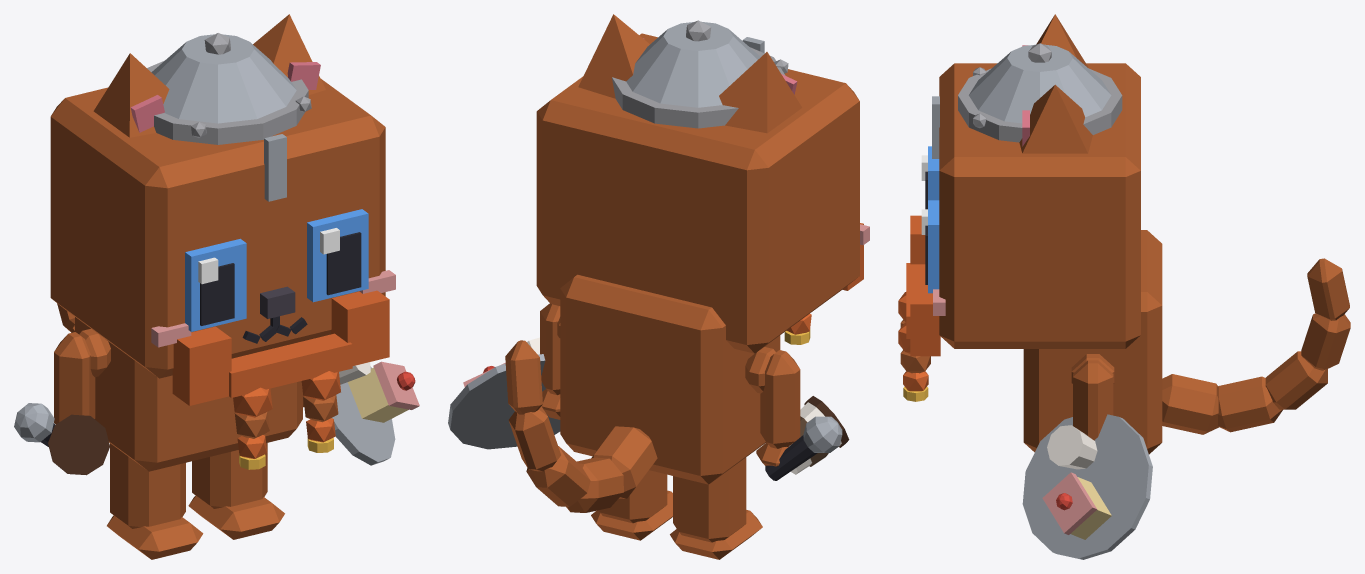
File: CatCafe_Cat_Dwarf_Work.fbx
3 views of the same model, side by side, from view 1: azimuth 30°, elevation 25°; view 2: azimuth 150°, elevation 25°; view 3: azimuth 270°, elevation 25° (orthographic). The views are drawn at different scales.
Parts seen in each view (by area): view 1: CatCafe_Cat_Dwarf_Work_Head, CatCafe_Cat_Dwarf_Work_Prop, CatCafe_Cat_Dwarf_Work_Body, CatCafe_Cat_Dwarf_Work_LegB2, CatCafe_Cat_Dwarf_Work_Held_Waiter, CatCafe_Cat_Dwarf_Work_LegB1, CatCafe_Cat_Dwarf_Work_Eye1, CatCafe_Cat_Dwarf_Work_Eye2, CatCafe_Cat_Dwarf_Work_EarR, CatCafe_Cat_Dwarf_Work_LegF2, CatCafe_Cat_Dwarf_Work_Held_Barista, CatCafe_Cat_Dwarf_Work_EarL (+1 smaller); view 2: CatCafe_Cat_Dwarf_Work_Head, CatCafe_Cat_Dwarf_Work_Body, CatCafe_Cat_Dwarf_Work_Prop, CatCafe_Cat_Dwarf_Work_Tail, CatCafe_Cat_Dwarf_Work_LegB2, CatCafe_Cat_Dwarf_Work_Held_Waiter, CatCafe_Cat_Dwarf_Work_EarR, CatCafe_Cat_Dwarf_Work_LegF2, CatCafe_Cat_Dwarf_Work_LegB1, CatCafe_Cat_Dwarf_Work_EarL, CatCafe_Cat_Dwarf_Work_Held_Entertainer, CatCafe_Cat_Dwarf_Work_LegF1 (+1 smaller); view 3: CatCafe_Cat_Dwarf_Work_Head, CatCafe_Cat_Dwarf_Work_Prop, CatCafe_Cat_Dwarf_Work_Held_Waiter, CatCafe_Cat_Dwarf_Work_Tail, CatCafe_Cat_Dwarf_Work_Body, CatCafe_Cat_Dwarf_Work_EarL, CatCafe_Cat_Dwarf_Work_LegF1, CatCafe_Cat_Dwarf_Work_Eye1, CatCafe_Cat_Dwarf_Work_EarR, CatCafe_Cat_Dwarf_Work_Eye2.
Boxes of the visible parts, bbox=[...] form: CatCafe_Cat_Dwarf_Work_Head: bbox=[50, 79, 395, 378]; CatCafe_Cat_Dwarf_Work_Prop: bbox=[147, 33, 389, 469]; CatCafe_Cat_Dwarf_Work_Body: bbox=[75, 317, 302, 471]; CatCafe_Cat_Dwarf_Work_LegB2: bbox=[107, 443, 203, 559]; CatCafe_Cat_Dwarf_Work_Held_Waiter: bbox=[332, 361, 419, 465]; CatCafe_Cat_Dwarf_Work_LegB1: bbox=[188, 443, 284, 539]; CatCafe_Cat_Dwarf_Work_Eye1: bbox=[307, 209, 368, 302]; CatCafe_Cat_Dwarf_Work_Eye2: bbox=[185, 238, 246, 331]; CatCafe_Cat_Dwarf_Work_EarR: bbox=[93, 53, 169, 137]; CatCafe_Cat_Dwarf_Work_LegF2: bbox=[54, 332, 95, 423]; CatCafe_Cat_Dwarf_Work_Held_Barista: bbox=[48, 414, 109, 475]; CatCafe_Cat_Dwarf_Work_EarL: bbox=[253, 14, 325, 94]; CatCafe_Cat_Dwarf_Work_Head: bbox=[536, 33, 869, 353]; CatCafe_Cat_Dwarf_Work_Body: bbox=[557, 274, 780, 484]; CatCafe_Cat_Dwarf_Work_Prop: bbox=[612, 20, 863, 344]; CatCafe_Cat_Dwarf_Work_Tail: bbox=[505, 340, 657, 512]; CatCafe_Cat_Dwarf_Work_LegB2: bbox=[670, 457, 762, 559]; CatCafe_Cat_Dwarf_Work_Held_Waiter: bbox=[448, 337, 560, 449]; CatCafe_Cat_Dwarf_Work_EarR: bbox=[719, 52, 802, 133]; CatCafe_Cat_Dwarf_Work_LegF2: bbox=[756, 350, 800, 466]; CatCafe_Cat_Dwarf_Work_LegB1: bbox=[591, 470, 672, 540]; CatCafe_Cat_Dwarf_Work_EarL: bbox=[578, 14, 649, 98]; CatCafe_Cat_Dwarf_Work_Held_Entertainer: bbox=[765, 416, 842, 480]; CatCafe_Cat_Dwarf_Work_LegF1: bbox=[540, 303, 560, 419]; CatCafe_Cat_Dwarf_Work_Head: bbox=[933, 63, 1140, 348]; CatCafe_Cat_Dwarf_Work_Prop: bbox=[898, 43, 1122, 401]; CatCafe_Cat_Dwarf_Work_Held_Waiter: bbox=[1022, 414, 1152, 559]; CatCafe_Cat_Dwarf_Work_Tail: bbox=[1162, 258, 1350, 434]; CatCafe_Cat_Dwarf_Work_Body: bbox=[1023, 230, 1162, 454]; CatCafe_Cat_Dwarf_Work_EarL: bbox=[1019, 84, 1092, 153]; CatCafe_Cat_Dwarf_Work_LegF1: bbox=[1073, 360, 1113, 440]; CatCafe_Cat_Dwarf_Work_Eye1: bbox=[921, 200, 939, 293]; CatCafe_Cat_Dwarf_Work_EarR: bbox=[1022, 14, 1088, 67]; CatCafe_Cat_Dwarf_Work_Eye2: bbox=[921, 146, 939, 209].
Bounding box in the file's own units: 1.53 × 1.95 × 1.71.
Materials: 1 (1 with a texture image).
